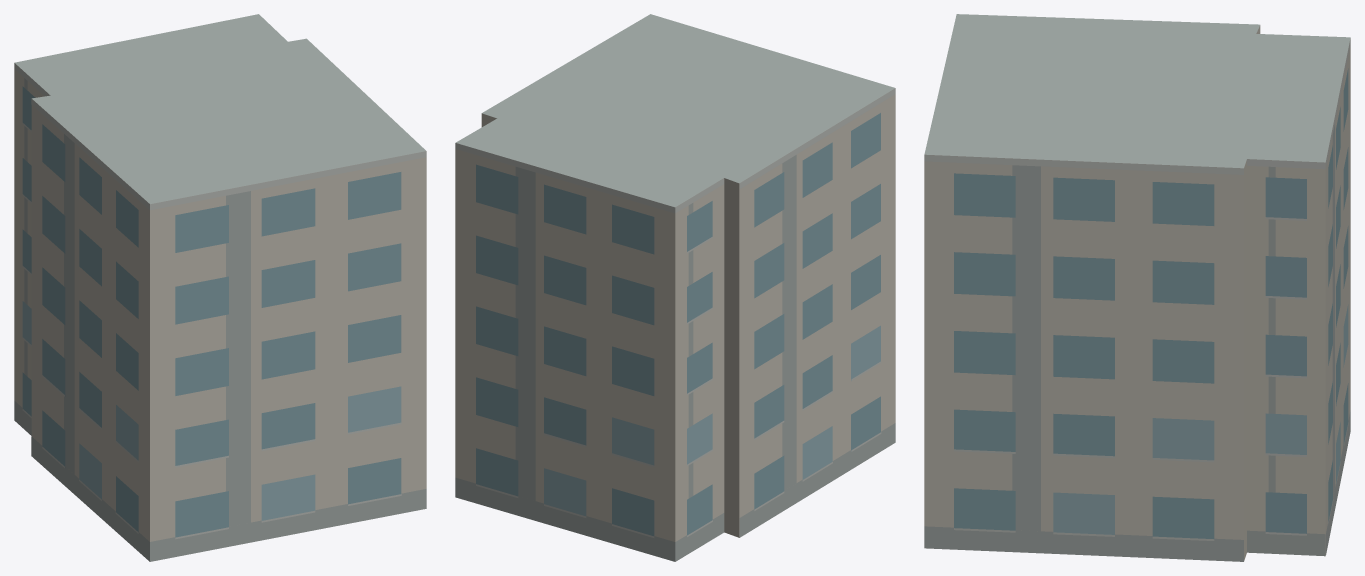
The model's file is survey-upis-32826444.glb.
3 renders of one model, left to right at view 1: azimuth 30°, elevation 25°; view 2: azimuth 150°, elevation 25°; view 3: azimuth 270°, elevation 25°, orthographic. The views are drawn at different scales.
Parts seen in each view (by area): view 1: survey-upis-32826444.tmp; view 2: survey-upis-32826444.tmp; view 3: survey-upis-32826444.tmp.
Part boxes in pixels (x1,y1,x2,y2): survey-upis-32826444.tmp: (14, 14, 426, 561); survey-upis-32826444.tmp: (455, 14, 895, 561); survey-upis-32826444.tmp: (924, 14, 1350, 561).
Bounding box in the file's own units: 11.94 × 14.2 × 13.95.
